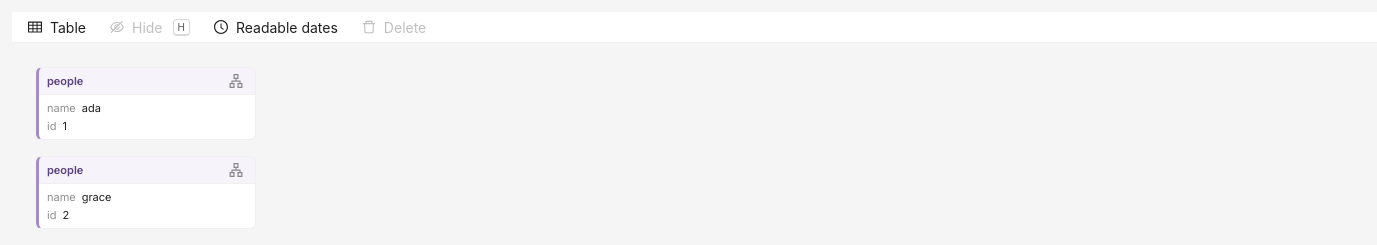
Test: deleting cards › Save deletes the rows of the crossed out cards, and the cards go
This screenshot has width=1377, height=245.
Click the element named "people 1": coordinates (146, 104) [36,67,256,140]
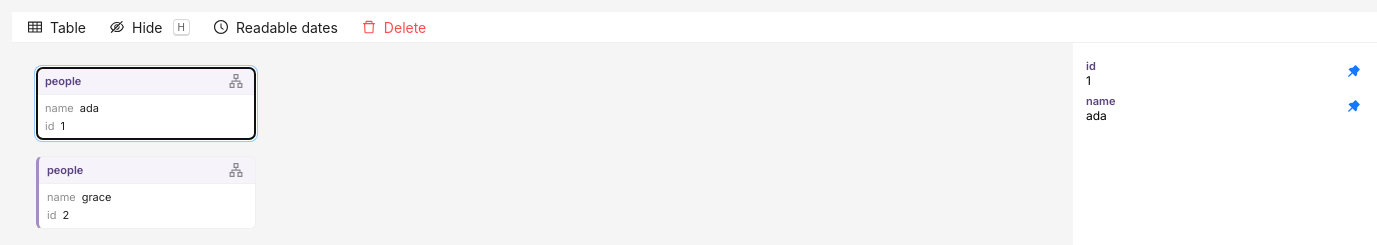
Press Backspace
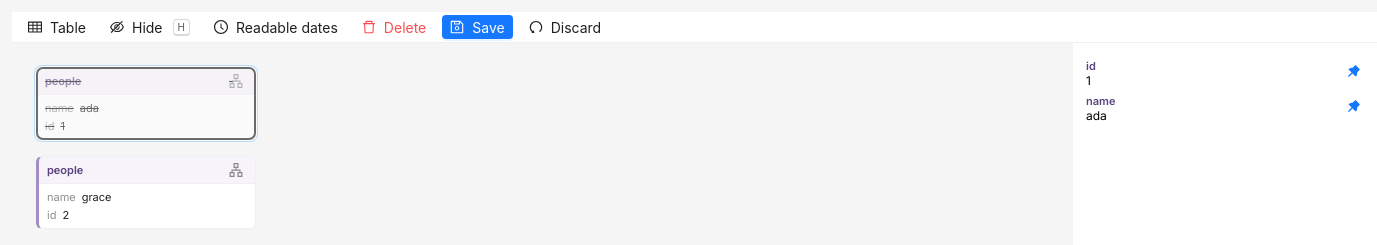
Click the button "Save": coordinates (478, 27) [442,15,513,39]
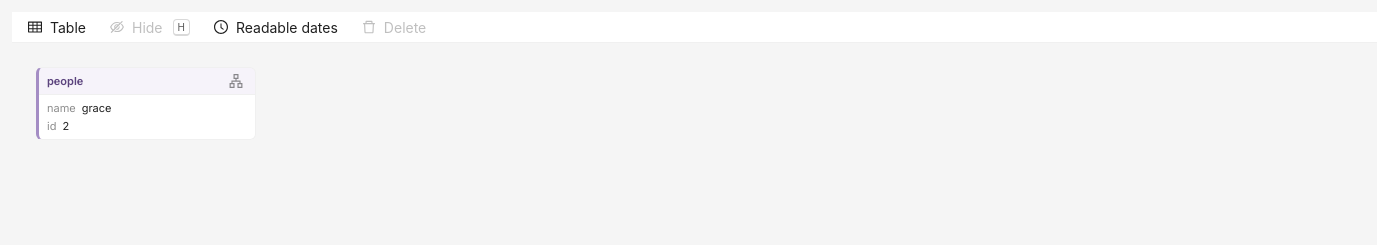
Check: the element named "people 2" is shown, box [36,67,256,140]
Check: the button "Save" is gone
